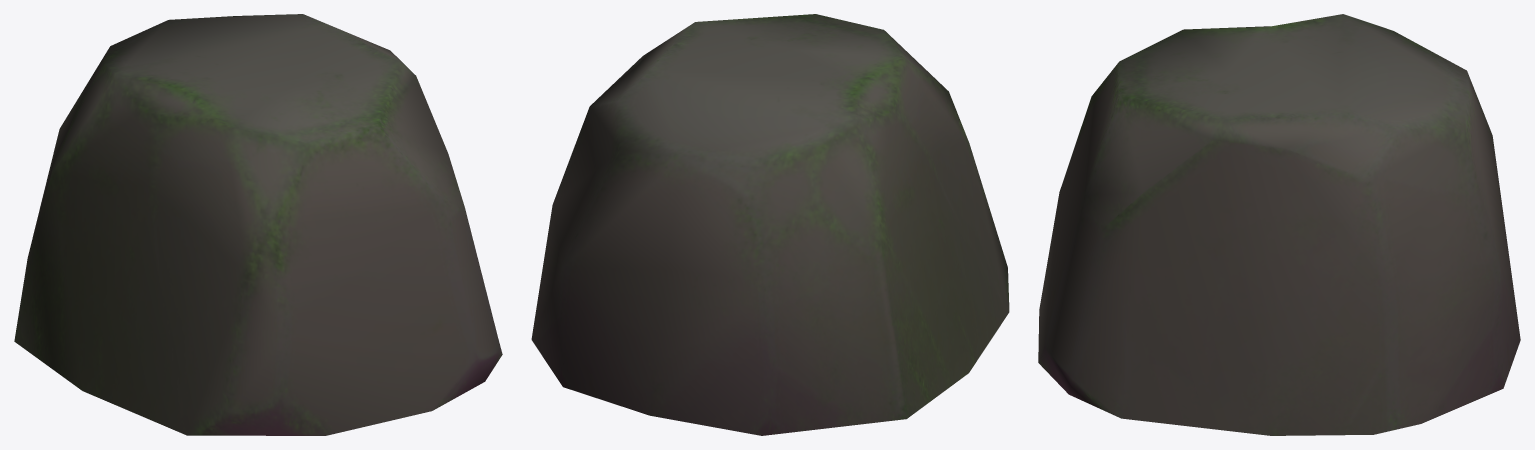
Rendered from Outdoor_prop_stones_03.FBX.
3 views of the same model, side by side, from view 1: azimuth 30°, elevation 25°; view 2: azimuth 150°, elevation 25°; view 3: azimuth 270°, elevation 25° (orthographic). The views are drawn at different scales.
Parts seen in each view (by area): view 1: Outdoor_prop_stones_03; view 2: Outdoor_prop_stones_03; view 3: Outdoor_prop_stones_03.
Part boxes in pixels (x1,y1,x2,y2): Outdoor_prop_stones_03: (14, 14, 502, 435); Outdoor_prop_stones_03: (531, 14, 1009, 435); Outdoor_prop_stones_03: (1038, 14, 1520, 435).
Bounding box in the file's own units: 58.71 × 62.79 × 39.23.
